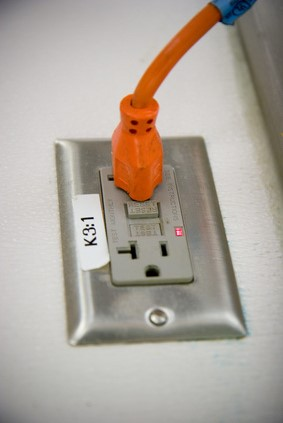outlet: (123, 233, 176, 281)
